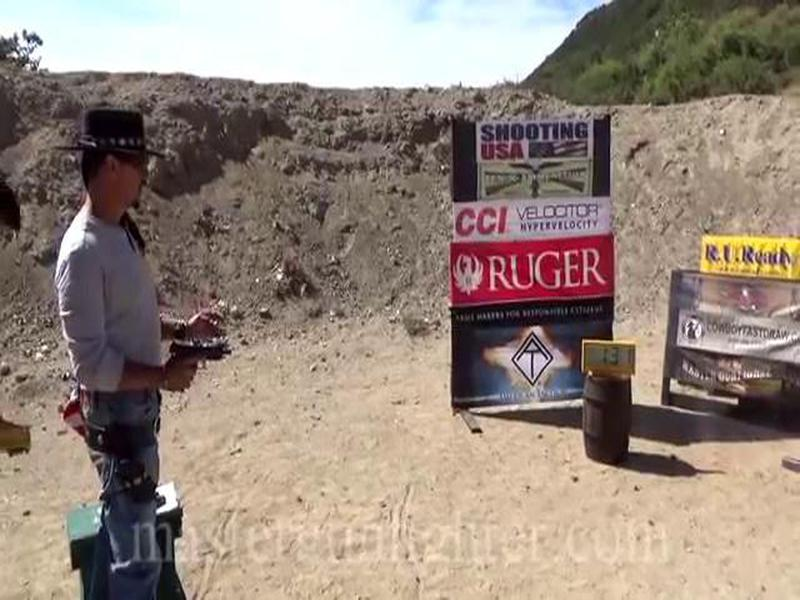Pistola: (156, 332, 243, 399)
